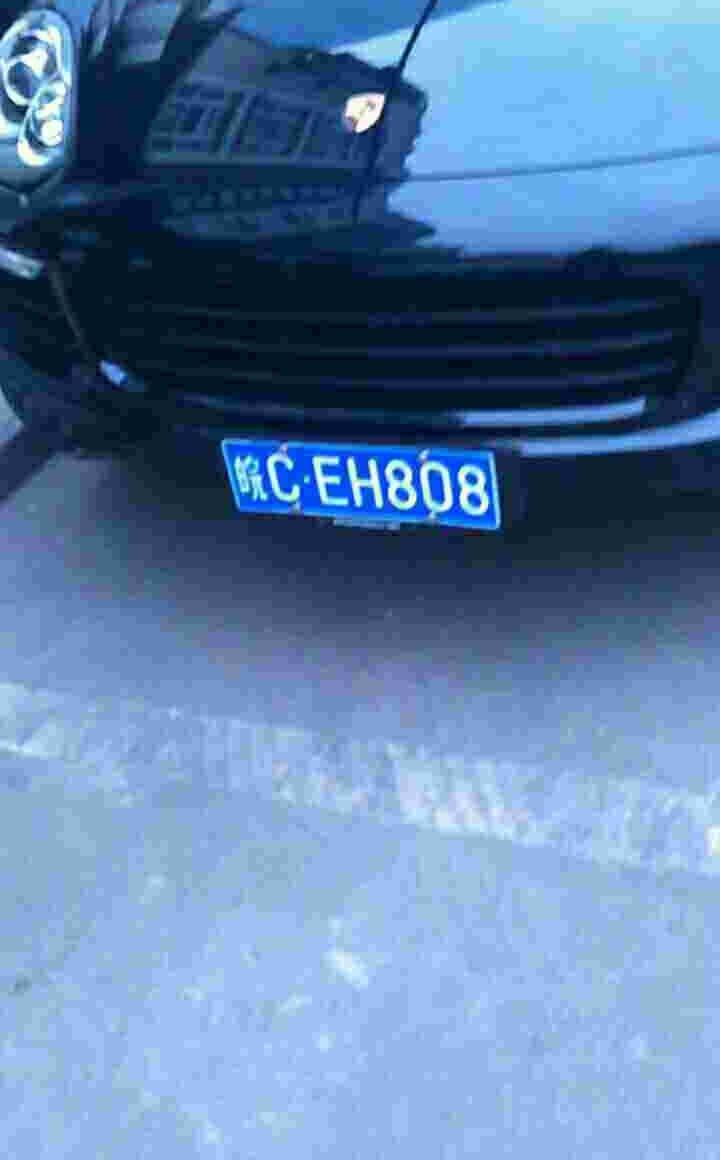plate: (219, 435, 509, 529)
